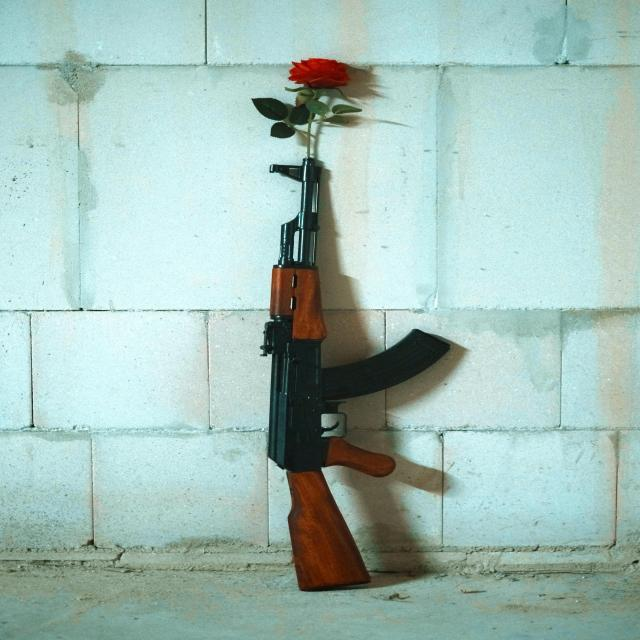weapon: (257, 158, 453, 592)
